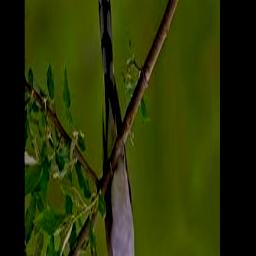Cuckoo: (98, 0, 148, 256)
